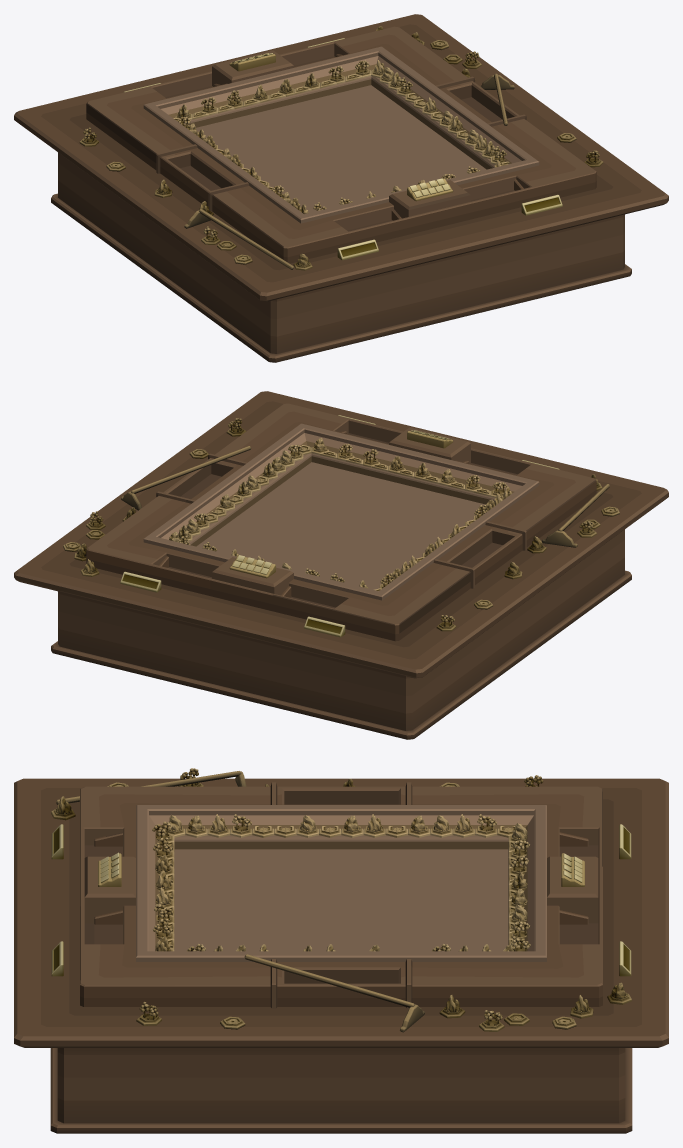
File: worldMapTable.fbx
3 renders of one model, top to bottom at view 1: azimuth 30°, elevation 25°; view 2: azimuth 150°, elevation 25°; view 3: azimuth 270°, elevation 25°, orthographic. The views are drawn at different scales.
Parts seen in each view (by area): view 1: table; view 2: table; view 3: table.
Part boxes in pixels (x1,y1,x2,y2): table: (14,14,668,362); table: (14,391,668,739); table: (14,768,668,1133).
Size of the model in its own units: 48 by 13.28 by 51.
